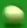white: (0, 0, 27, 28)
